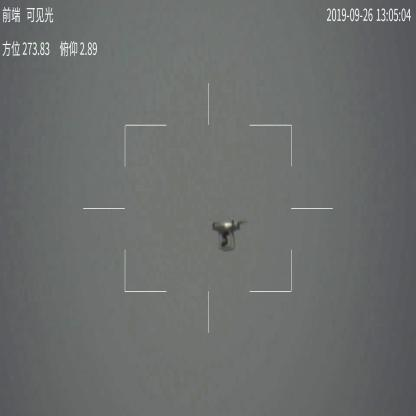uav: (204, 216, 247, 252)
